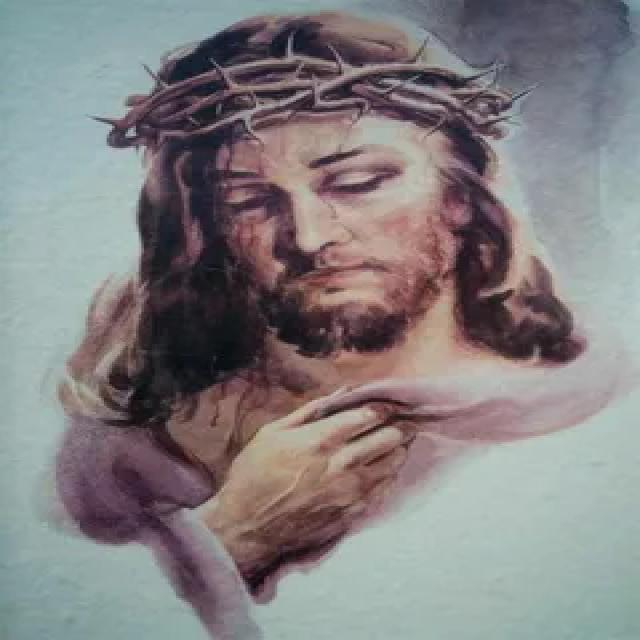crown: (85, 40, 524, 154)
